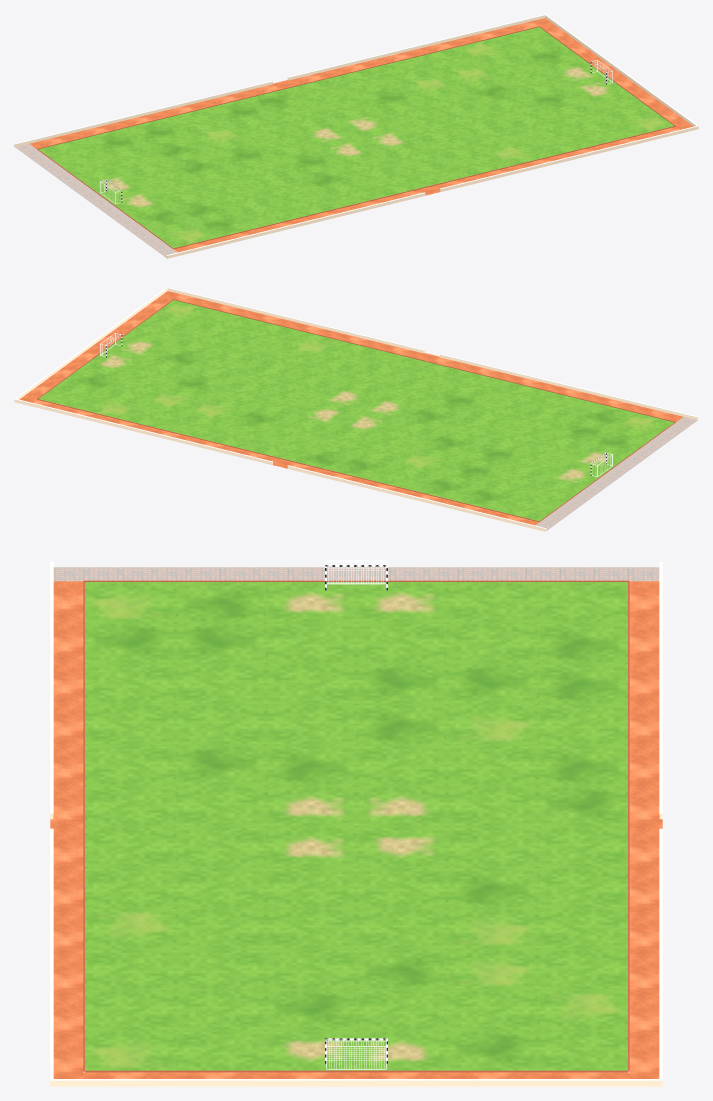
File: playground.glb
3 views of the same model, one above another, from view 1: azimuth 30°, elevation 25°; view 2: azimuth 150°, elevation 25°; view 3: azimuth 270°, elevation 25° (orthographic). The views are drawn at different scales.
Visible parts, largest first — view 1: Play Ground; view 2: Play Ground; view 3: Play Ground.
Boxes of the visible parts, x1,y1,x2,y2 form: Play Ground: (14,14,698,258); Play Ground: (14,287,698,531); Play Ground: (50,560,662,1086).
Bounding box in the file's own units: 103 × 2.32 × 51.23.
Materials: 1 (1 with a texture image).
